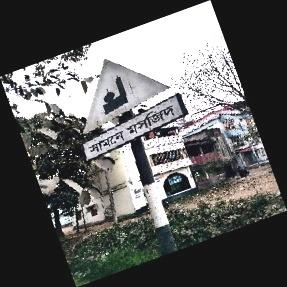Mosque in front: (81, 59, 189, 165)
